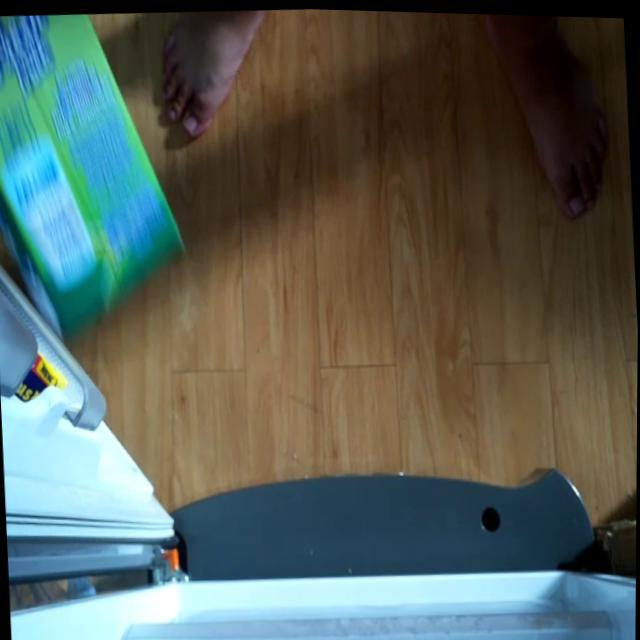milk: (0, 7, 196, 348)
